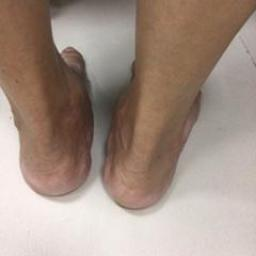Back View -Both Feet-: (3, 26, 223, 228)
